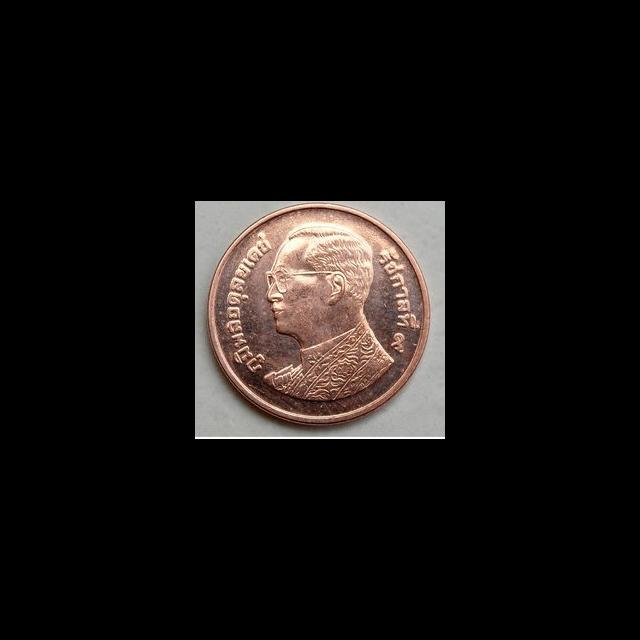50-satang: (195, 201, 445, 439)
